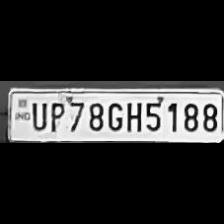1: (163, 99, 179, 133)
5: (142, 98, 162, 132)
7: (65, 98, 85, 132)
8: (85, 100, 105, 132), (198, 100, 218, 132), (180, 99, 198, 133)
G: (105, 100, 123, 132)
H: (124, 98, 142, 132)
P: (46, 98, 64, 132)
U: (28, 99, 46, 131)
